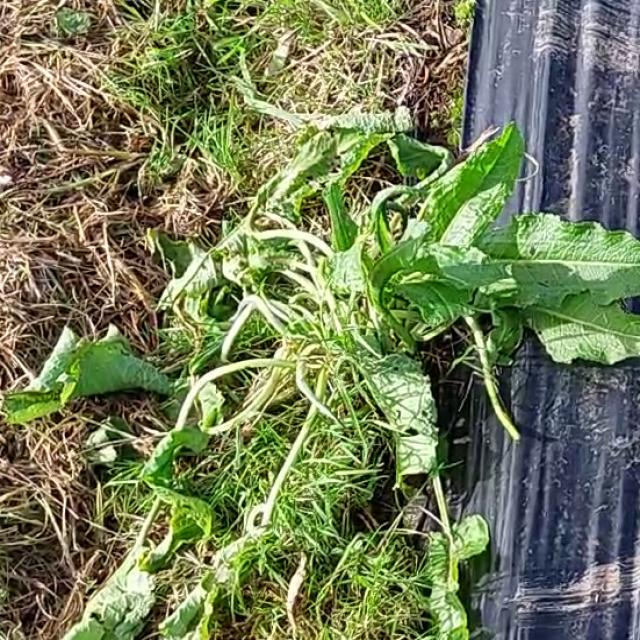organic waste: (167, 119, 640, 407), (345, 367, 517, 640), (27, 314, 286, 458), (96, 436, 270, 640)
